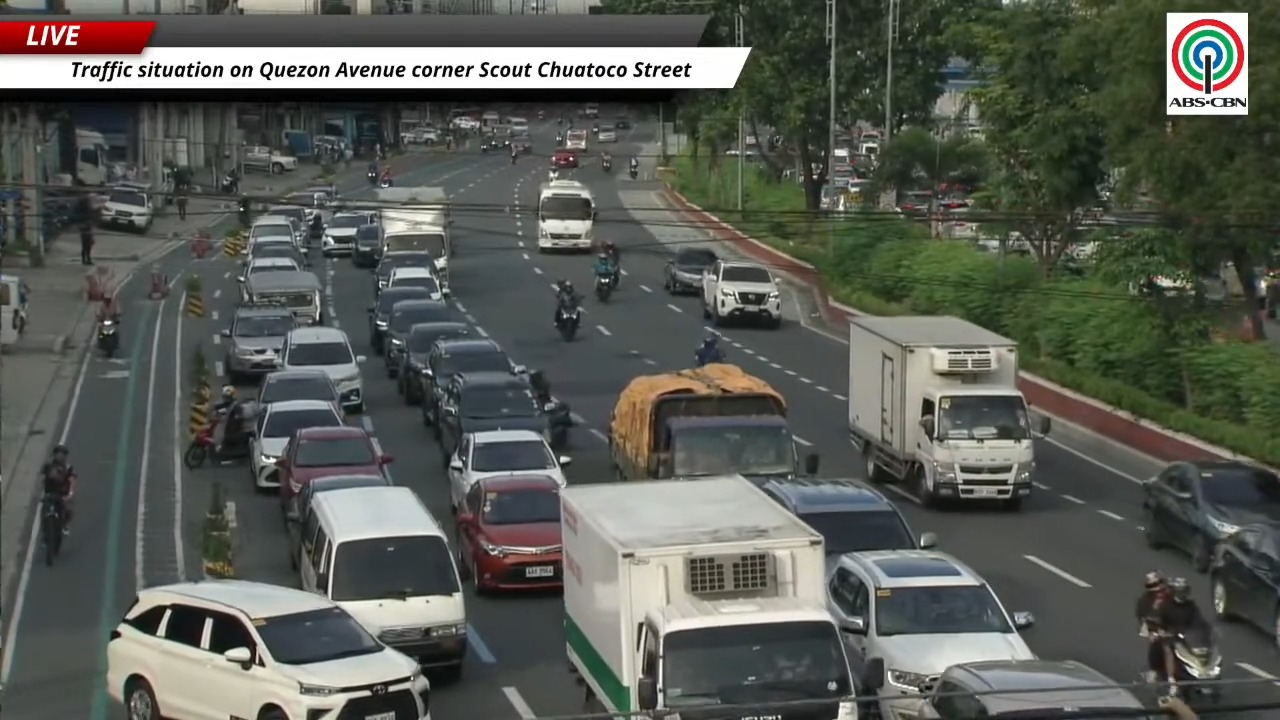car: (106, 580, 429, 719), (826, 550, 1035, 717), (1142, 460, 1279, 571), (760, 478, 936, 563), (905, 659, 1147, 719), (455, 475, 562, 591), (275, 426, 391, 516), (285, 472, 392, 569), (436, 370, 551, 456), (420, 337, 517, 438), (448, 430, 570, 510), (1209, 522, 1279, 646), (250, 400, 344, 488), (279, 326, 363, 412), (397, 321, 472, 404), (384, 299, 460, 377), (222, 306, 296, 384), (701, 260, 781, 328), (368, 287, 431, 353), (256, 369, 341, 411), (663, 247, 718, 295), (99, 186, 154, 232), (373, 251, 433, 293), (242, 226, 305, 262), (321, 212, 371, 257), (248, 216, 306, 254), (387, 267, 448, 299), (250, 214, 305, 249), (244, 239, 306, 267), (264, 203, 315, 237), (237, 257, 301, 283), (352, 224, 382, 267), (896, 191, 934, 218), (551, 148, 579, 168), (480, 135, 511, 153), (511, 135, 532, 153), (596, 127, 617, 143), (614, 118, 631, 129), (591, 122, 600, 135)
motorcycle: (1165, 623, 1221, 701), (1169, 623, 1221, 698), (183, 414, 222, 469), (40, 494, 64, 565), (556, 305, 580, 341), (96, 318, 118, 357), (594, 275, 614, 302), (694, 350, 725, 367), (237, 198, 251, 228), (220, 172, 239, 193), (366, 171, 377, 186), (601, 158, 611, 172), (379, 178, 392, 188), (629, 165, 638, 179), (510, 153, 517, 164)
truck: (561, 475, 857, 719), (848, 316, 1049, 509), (608, 363, 799, 483), (374, 186, 453, 289), (537, 179, 596, 252), (240, 146, 297, 174)
